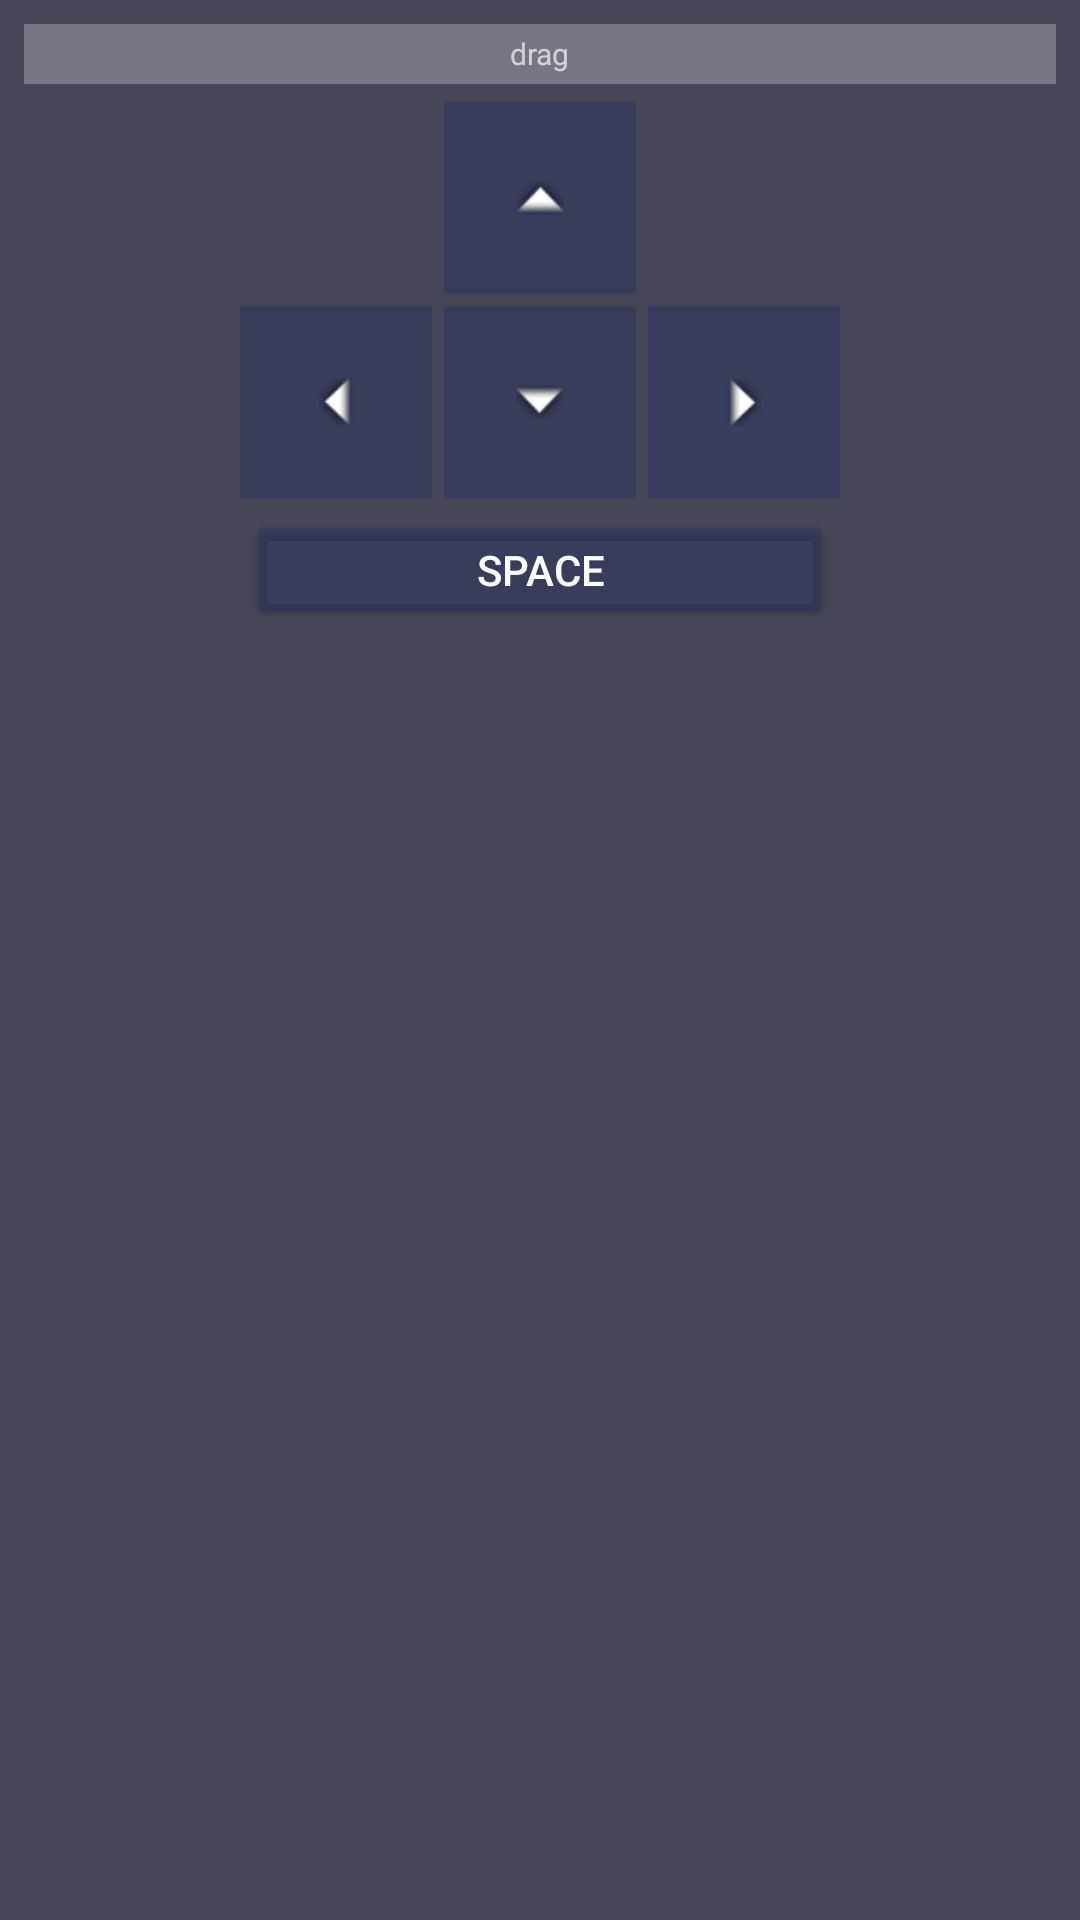

Icon bounding boxes for this 1080px×1920px phone screenshot, format [x1=x1, y1=y1, x2=x2, y2=y2]:
Up: [x1=520, y1=186, x2=561, y2=211]
